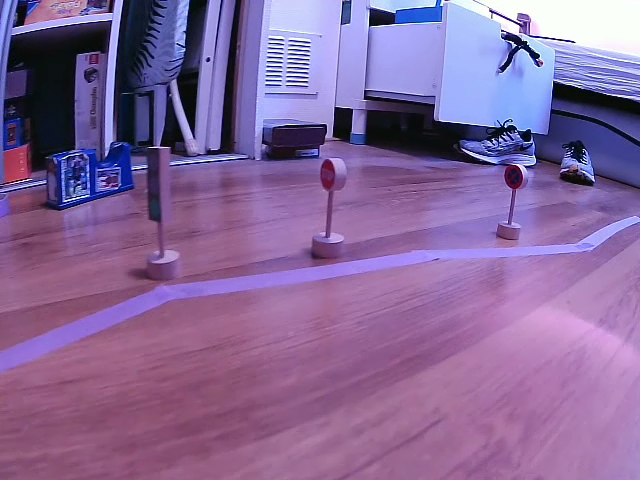groenlicht: (145, 145, 166, 222)
stopbord: (319, 159, 337, 191)
